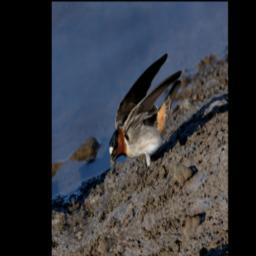Swallow: (97, 46, 196, 197)
